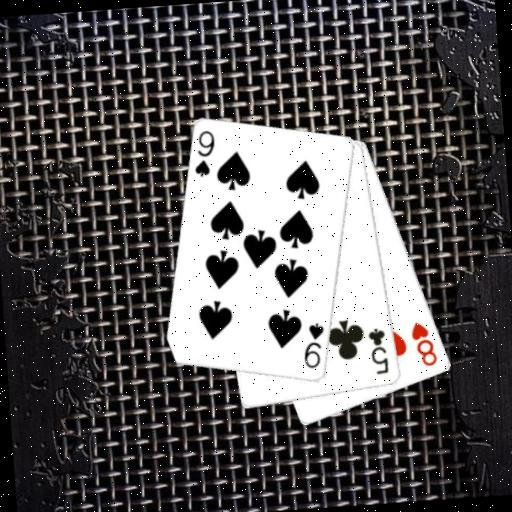5C: (365, 325, 391, 377)
8H: (408, 318, 440, 370)
9S: (299, 319, 329, 371), (189, 127, 219, 179)
